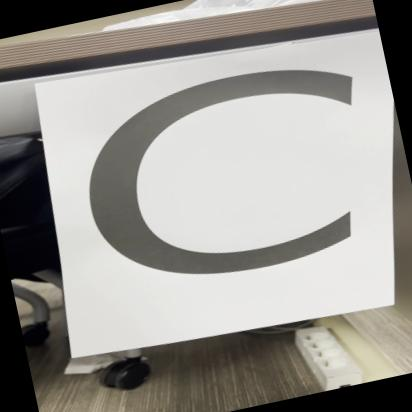seat: (48, 11, 412, 364)
